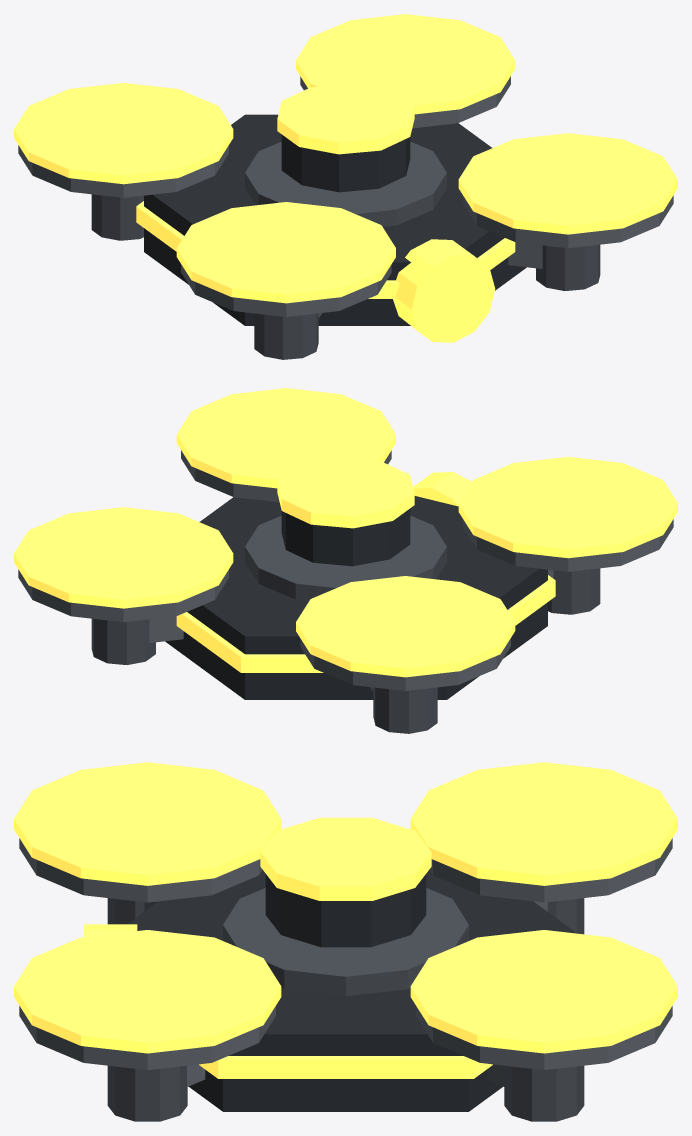
The model's file is Modle_Enemy_Drone.fbx.
The picture shows the model from 3 angles, top to bottom: view 1: azimuth 30°, elevation 25°; view 2: azimuth 150°, elevation 25°; view 3: azimuth 270°, elevation 25°; orthographic projection. The views are drawn at different scales.
Visible parts, largest first — view 1: Modle_Enemy_Drone; view 2: Modle_Enemy_Drone; view 3: Modle_Enemy_Drone.
Part boxes in pixels (x1,y1,x2,y2): Modle_Enemy_Drone: (14,14,677,359); Modle_Enemy_Drone: (14,388,677,733); Modle_Enemy_Drone: (14,762,677,1121).
Bounding box in the file's own units: 1.24 × 0.38 × 1.24.
